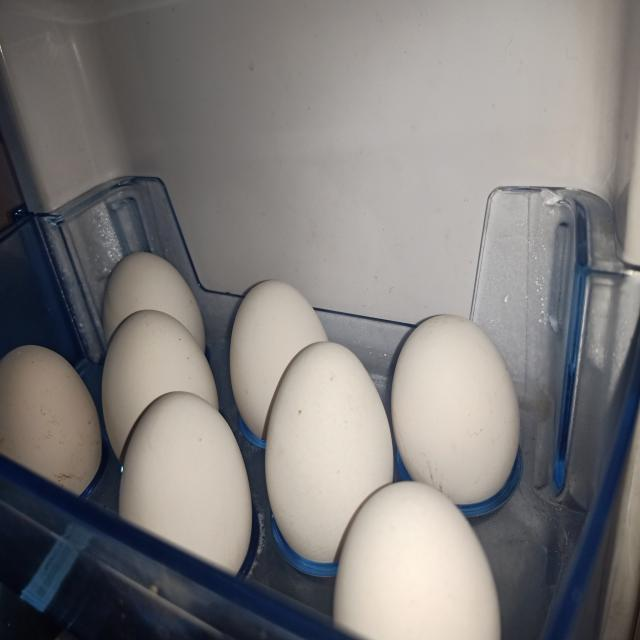Egg: (372, 306, 533, 507), (264, 340, 396, 567), (328, 476, 502, 640), (117, 387, 253, 575), (97, 306, 222, 462), (226, 273, 328, 445), (0, 338, 105, 501), (96, 246, 209, 360)
